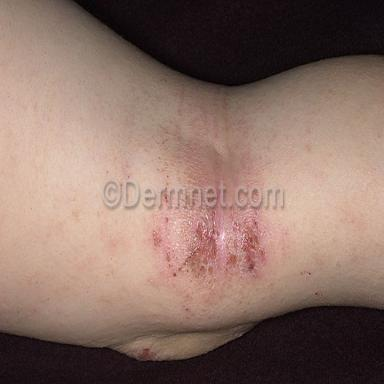eczema: (153, 206, 265, 292), (126, 341, 164, 360)
